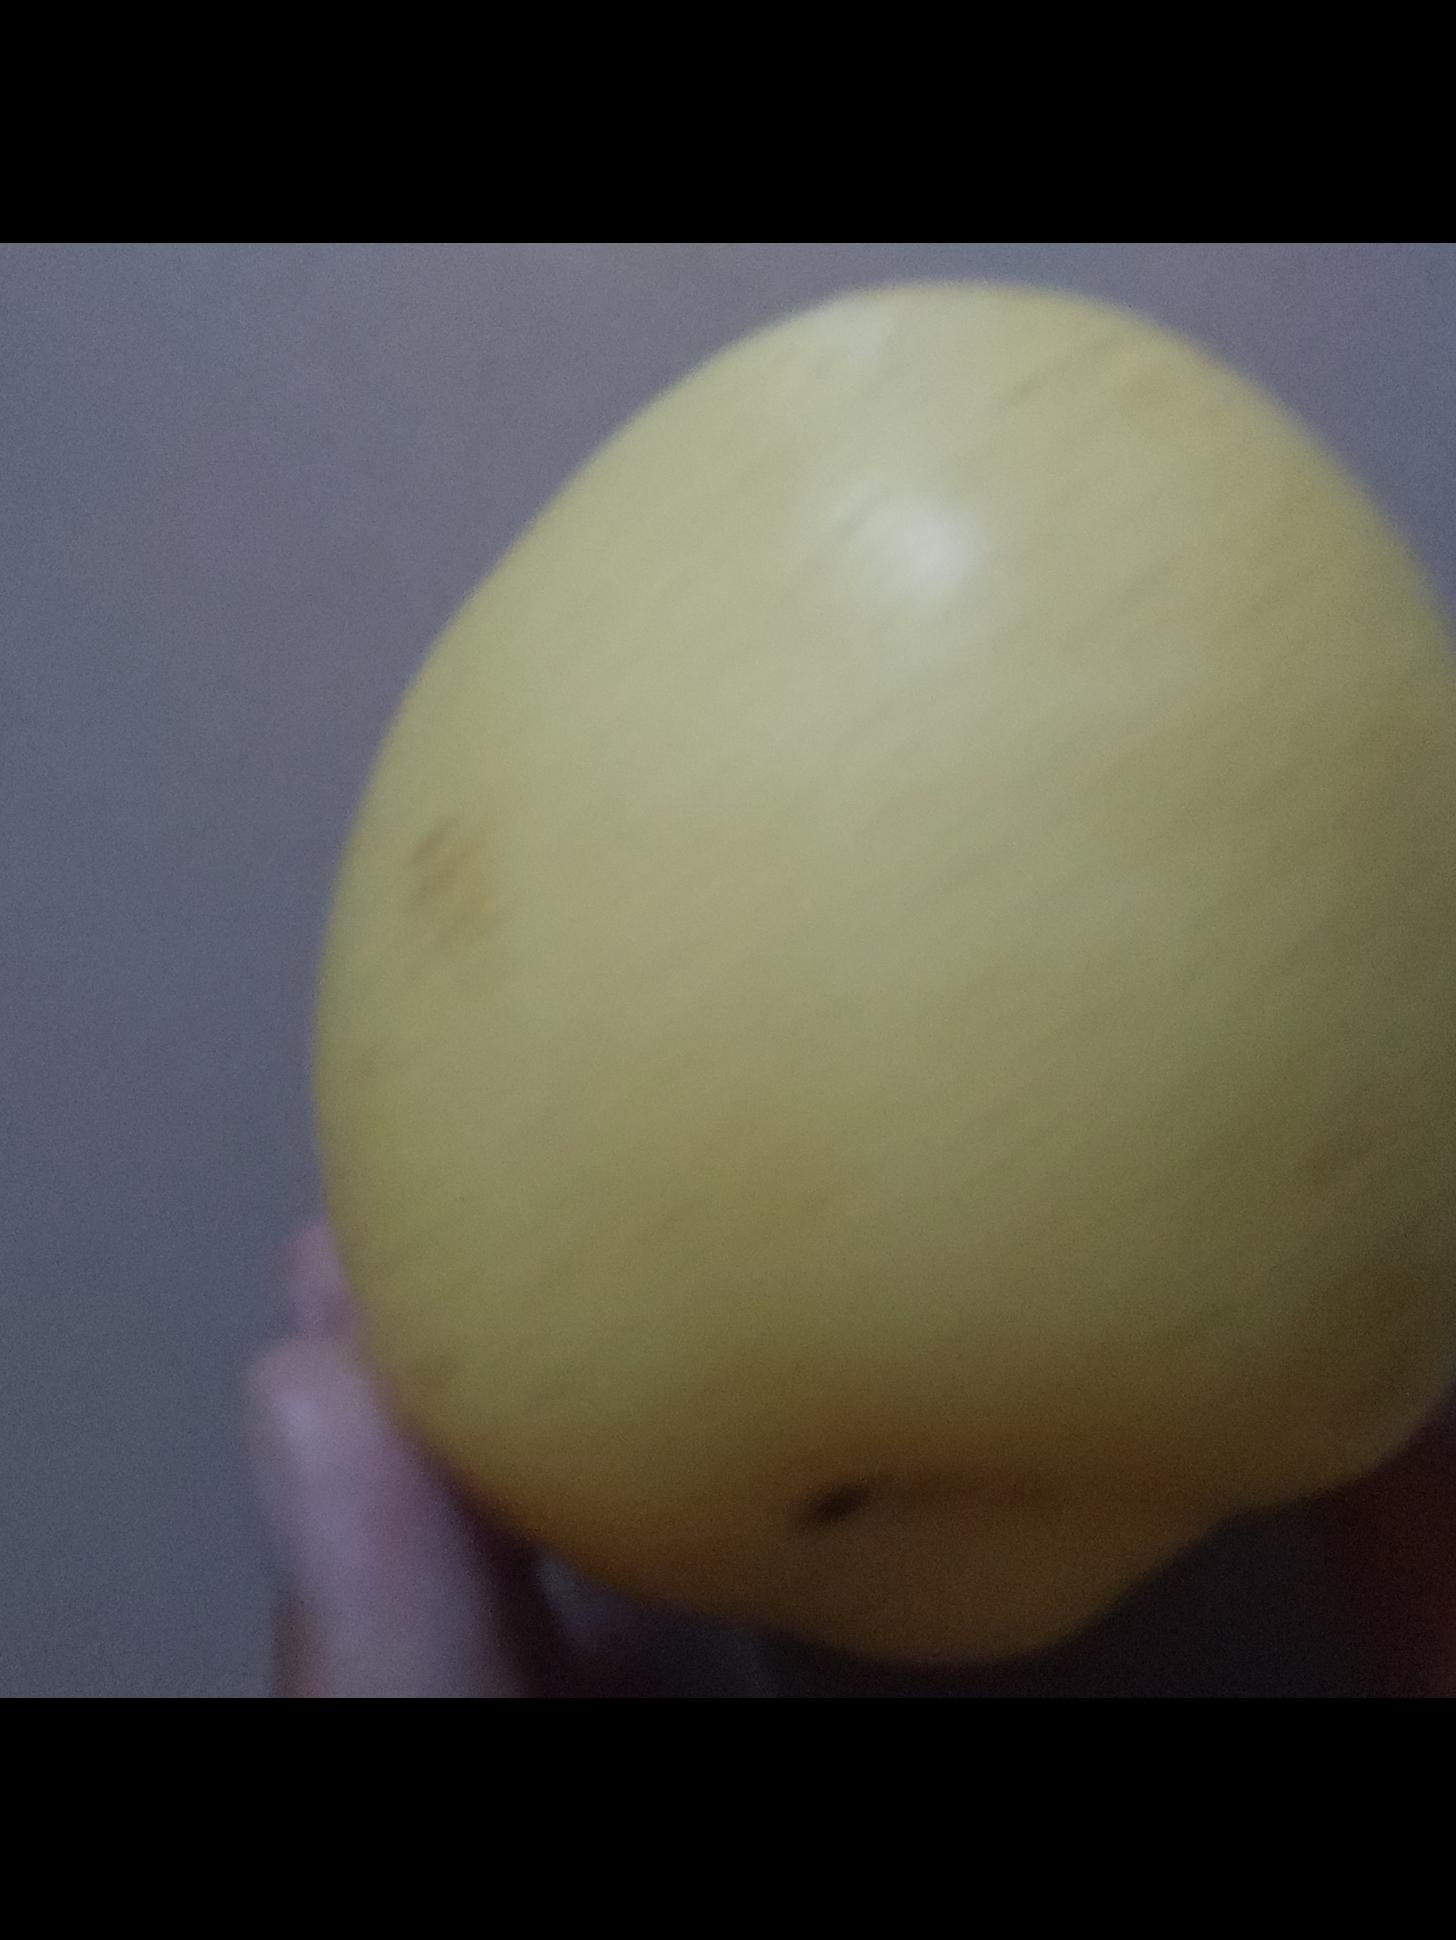Good Pear: (304, 268, 1456, 1685)
